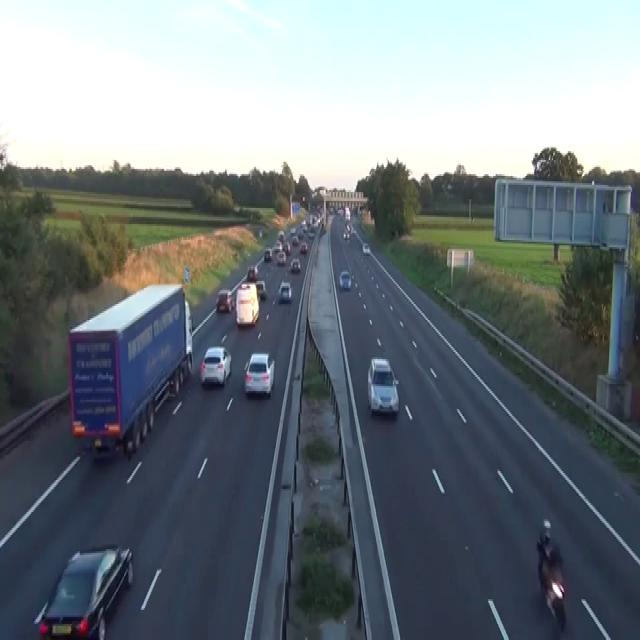Car: (33, 542, 133, 638), (537, 544, 566, 629), (367, 357, 399, 416), (243, 352, 275, 396), (199, 345, 231, 386), (215, 288, 234, 311), (278, 281, 292, 302), (339, 270, 351, 290), (255, 279, 266, 299), (289, 256, 301, 272), (246, 265, 258, 281), (276, 251, 286, 265), (272, 242, 282, 254), (264, 247, 272, 261), (362, 242, 370, 254), (277, 229, 284, 242), (283, 242, 290, 254), (343, 229, 350, 240), (301, 219, 307, 231), (300, 242, 307, 252), (308, 228, 315, 238), (292, 235, 299, 245), (345, 222, 351, 233), (243, 249, 250, 258), (328, 205, 334, 215), (297, 228, 304, 236), (320, 224, 326, 233), (337, 208, 343, 215), (290, 226, 295, 234), (259, 228, 262, 236)
Truck: (67, 281, 193, 459), (235, 281, 259, 325)
